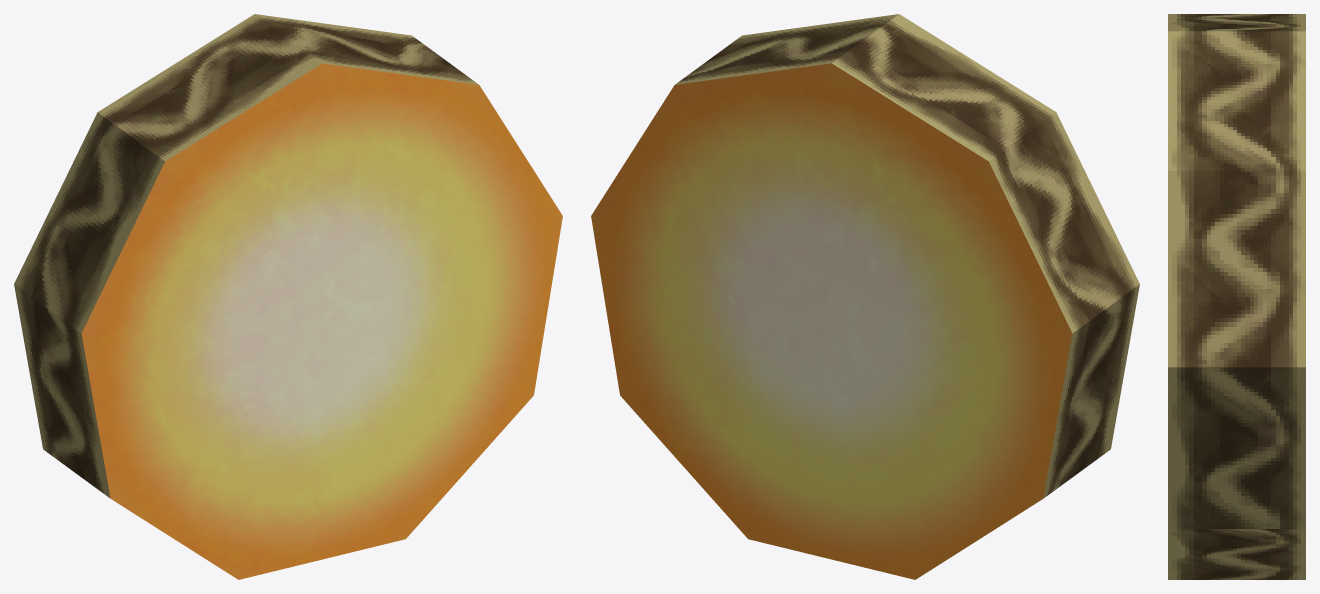
Rendered from firefly.fbx.
3 views of the same model, side by side, from view 1: azimuth 30°, elevation 25°; view 2: azimuth 150°, elevation 25°; view 3: azimuth 270°, elevation 25° (orthographic). The views are drawn at different scales.
Parts seen in each view (by area): view 1: firefly; view 2: firefly; view 3: firefly.
Boxes of the visible parts, x1,y1,x2,y2 form: firefly: (14, 14, 562, 579); firefly: (591, 14, 1139, 579); firefly: (1168, 14, 1305, 579).
Bounding box in the file's own units: 0.4214 × 0.415 × 0.1023.
